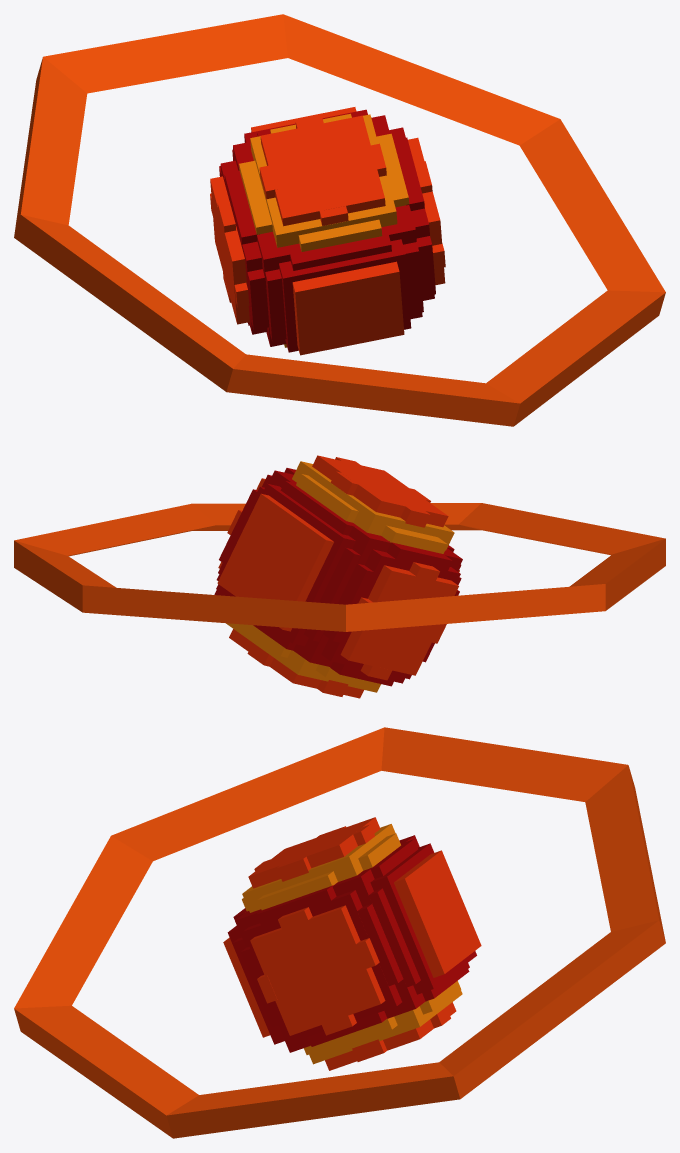
File: Red Planet Voxel.fbx
3 views of the same model, one above another, from view 1: azimuth 30°, elevation 25°; view 2: azimuth 150°, elevation 25°; view 3: azimuth 270°, elevation 25° (orthographic). The views are drawn at different scales.
Parts seen in each view (by area): view 1: polySurface5796; view 2: polySurface5796; view 3: polySurface5796.
Part boxes in pixels (box(x1,y1,x2,y2)): polySurface5796: box(14, 14, 665, 426); polySurface5796: box(14, 455, 665, 698); polySurface5796: box(14, 727, 665, 1138).
Bounding box in the file's own units: 18.6 × 6.98 × 18.25.
